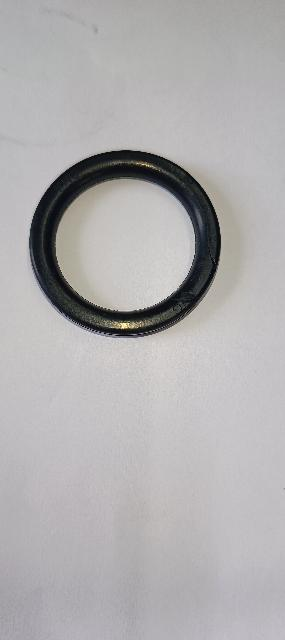4: (168, 290, 204, 308)
scratch: (207, 236, 219, 273)
